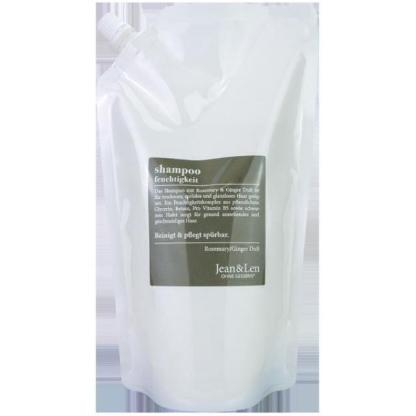Plastic Packaging: (93, 2, 321, 416)
